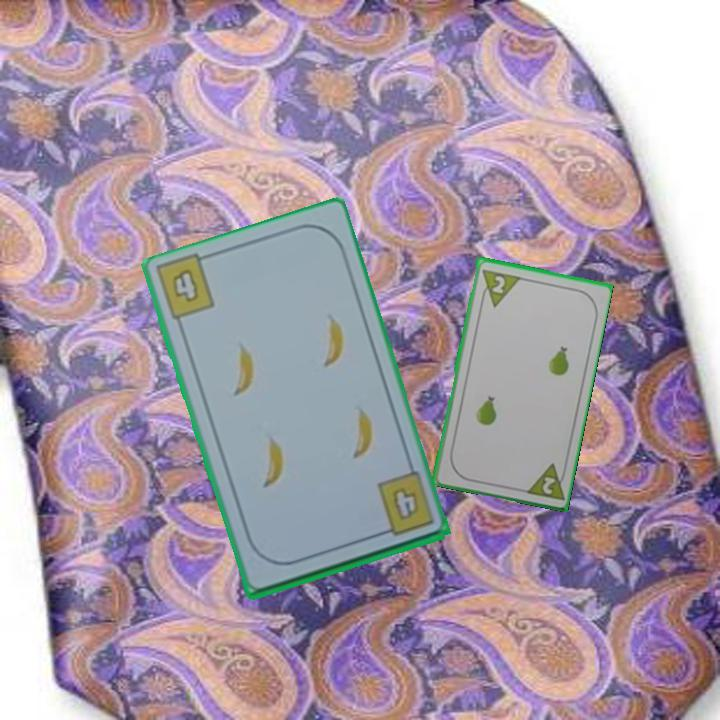2p: (477, 265, 522, 309), (538, 472, 558, 497)
4b: (373, 470, 437, 540), (168, 264, 202, 305)
